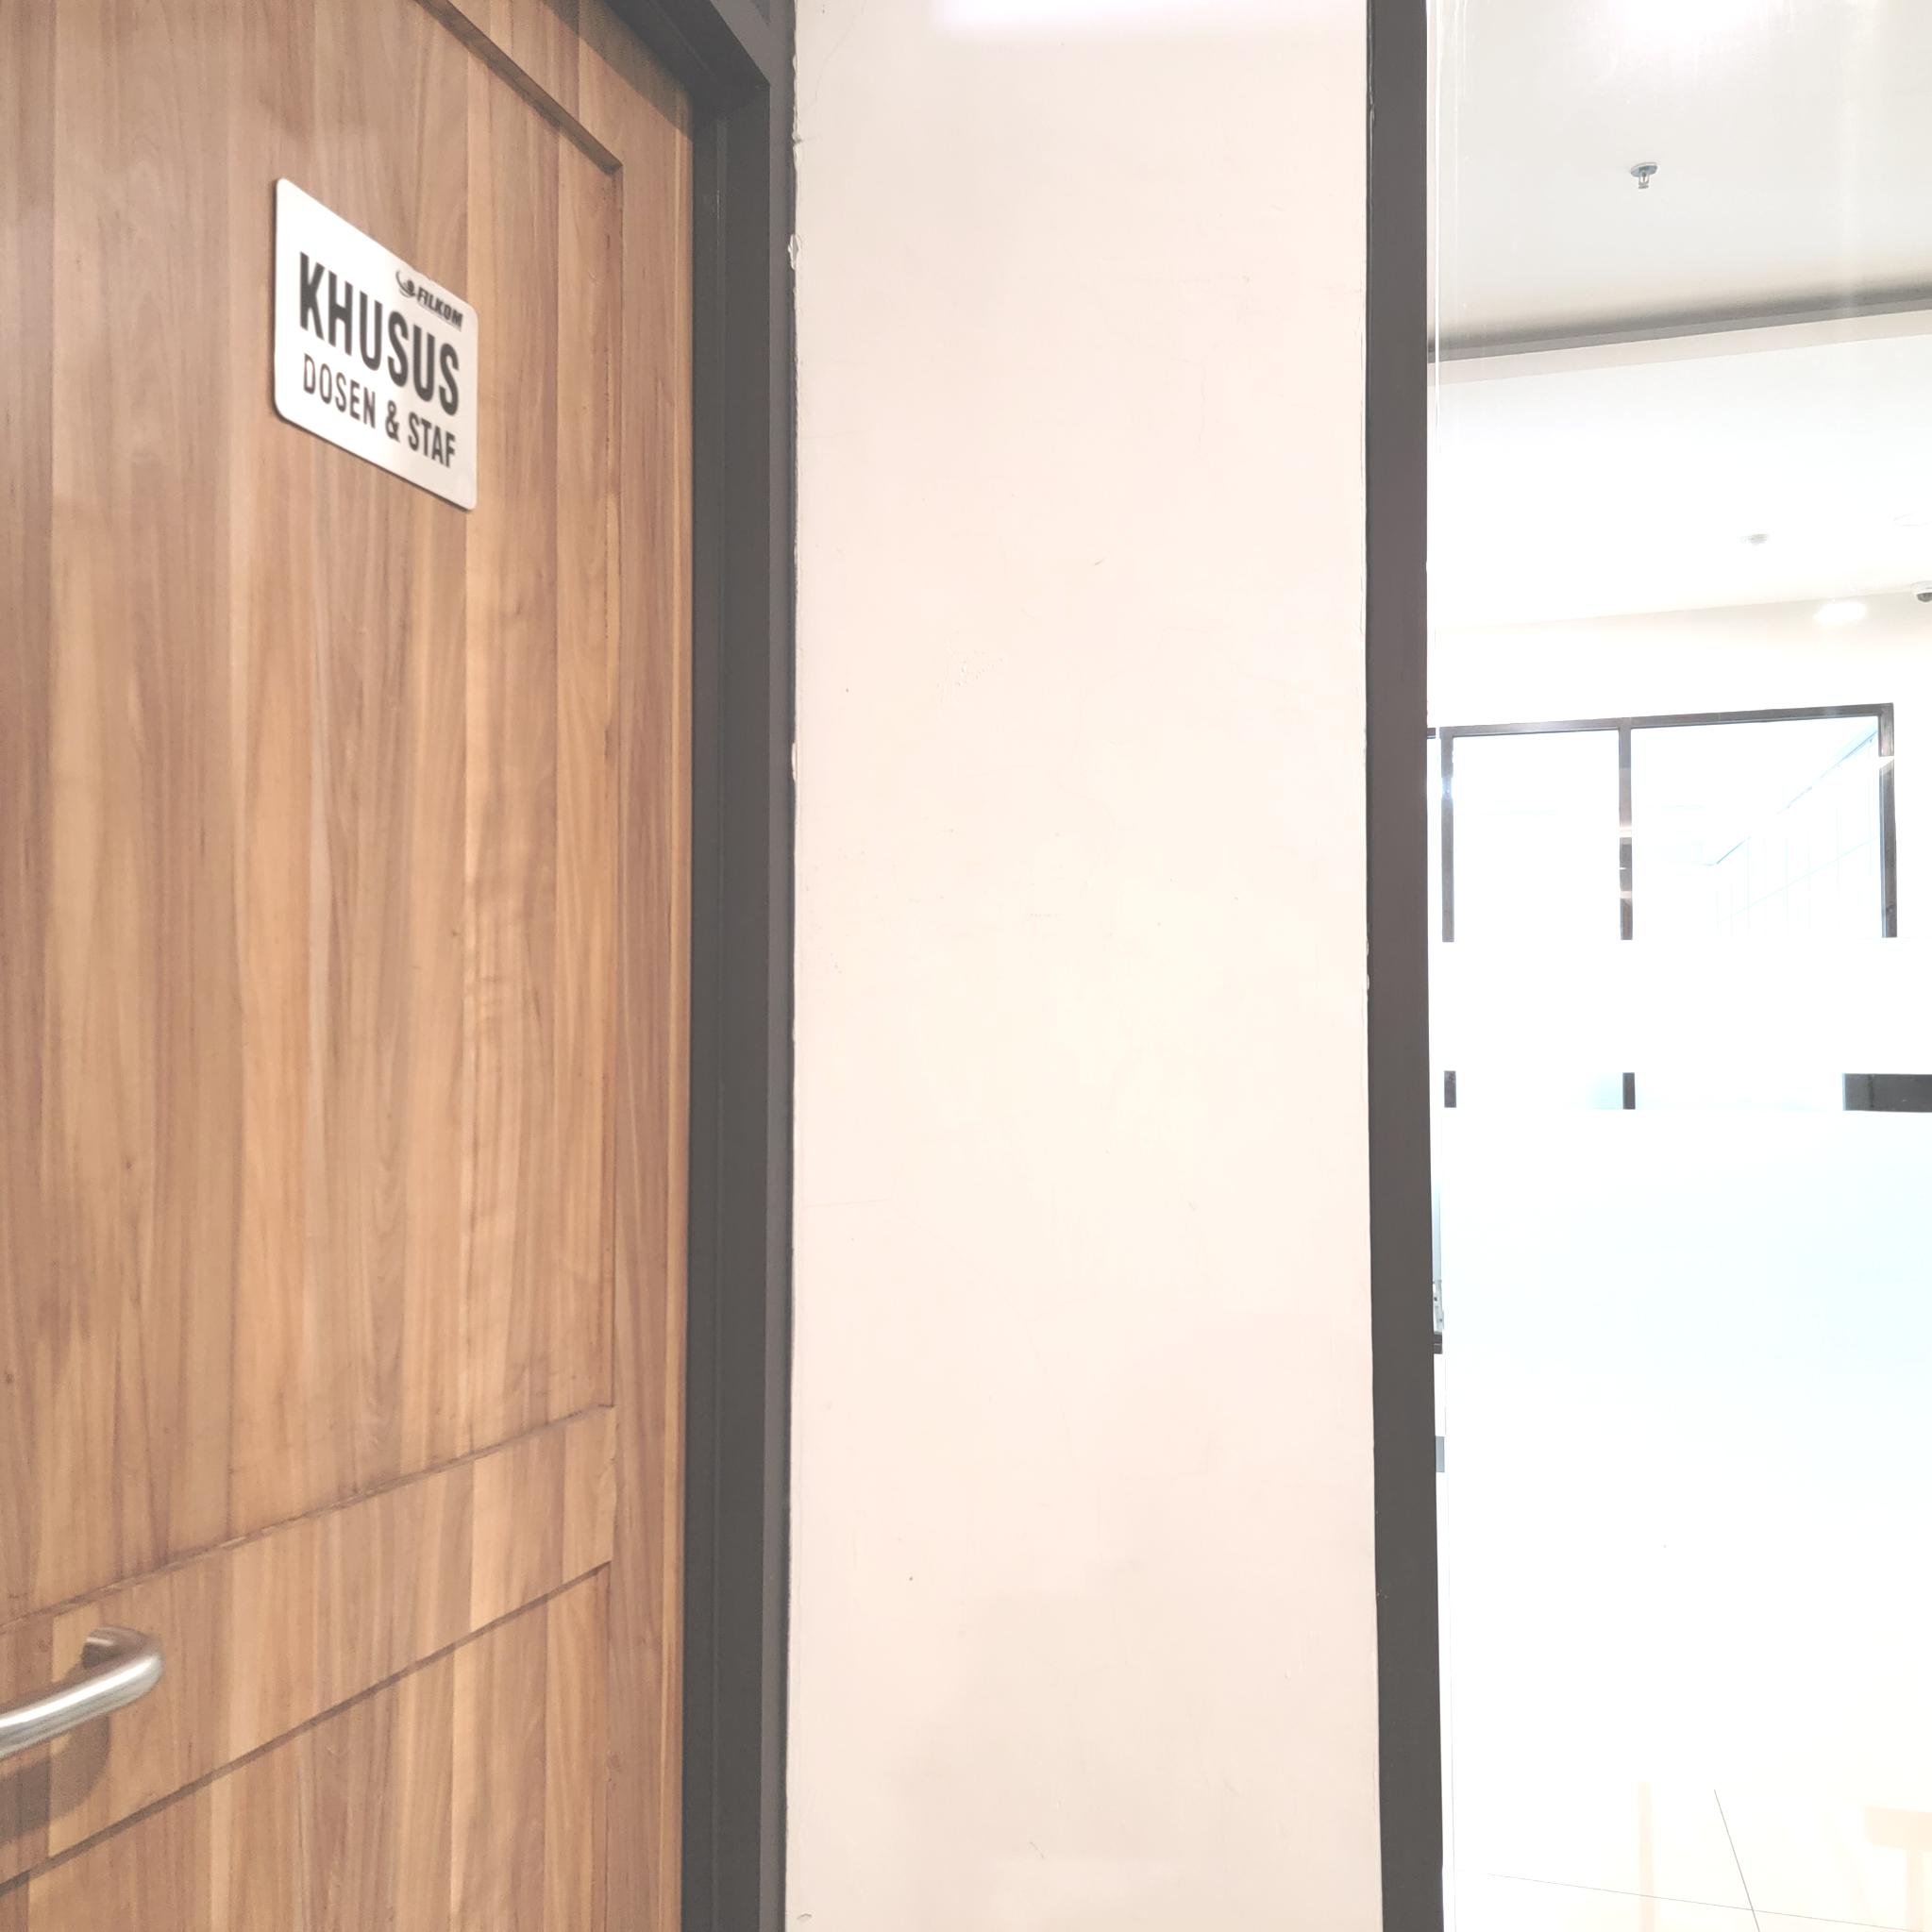plate: (271, 170, 479, 515)
